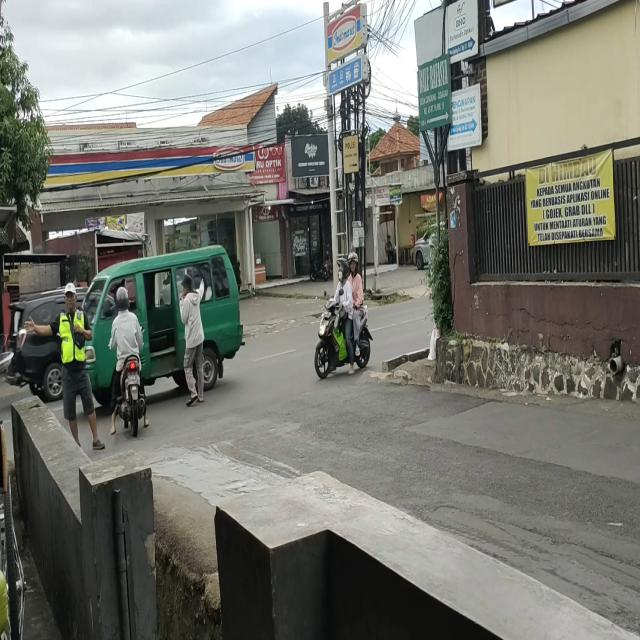helmet: (116, 288, 130, 310), (338, 258, 348, 286), (348, 256, 358, 279)
